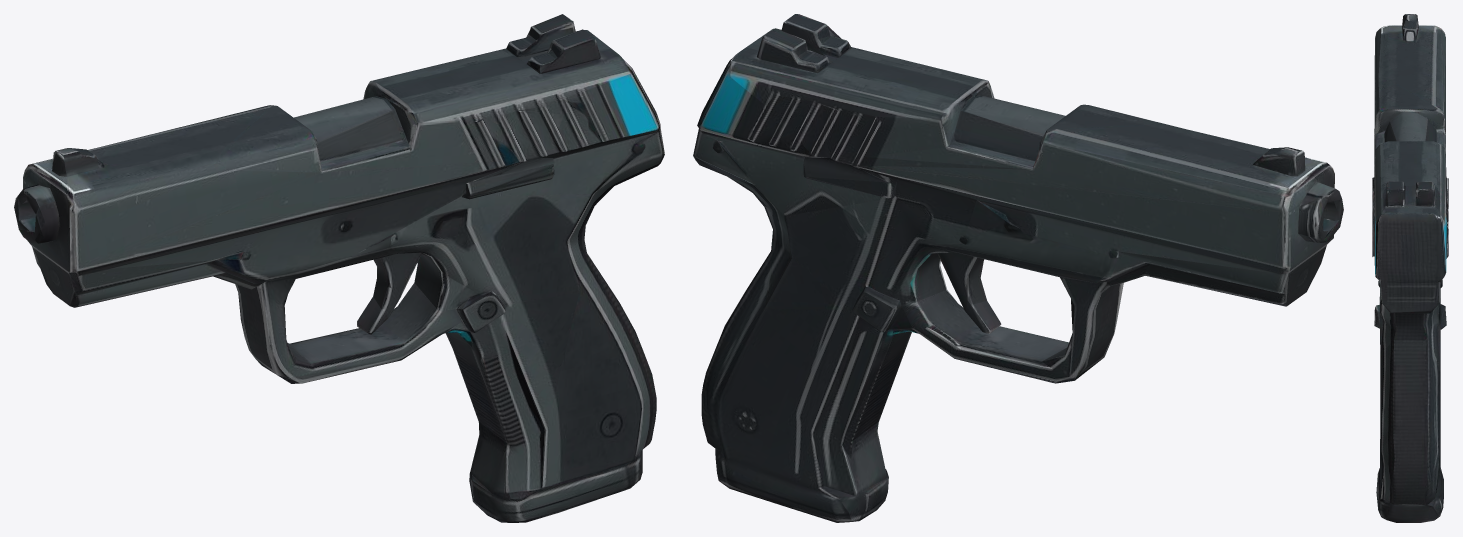
File: BS_Weapon_AutoPistol_final.glb
3 views of the same model, side by side, from view 1: azimuth 30°, elevation 25°; view 2: azimuth 150°, elevation 25°; view 3: azimuth 270°, elevation 25° (orthographic). The views are drawn at different scales.
Bounding box in the file's own units: 1.9 × 1.36 × 0.29.
Materials: 1 (1 with a texture image).
